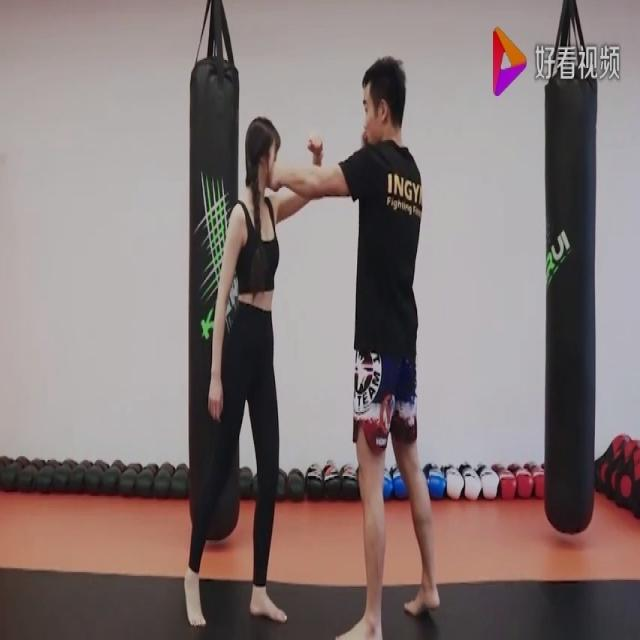fight: (197, 44, 441, 636)
